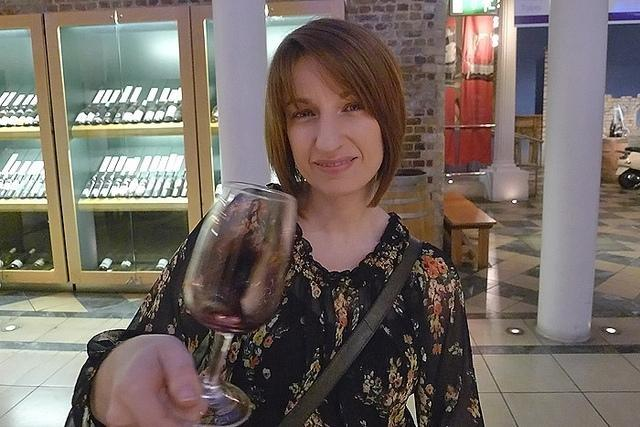motorcycle: (614, 146, 640, 190)
